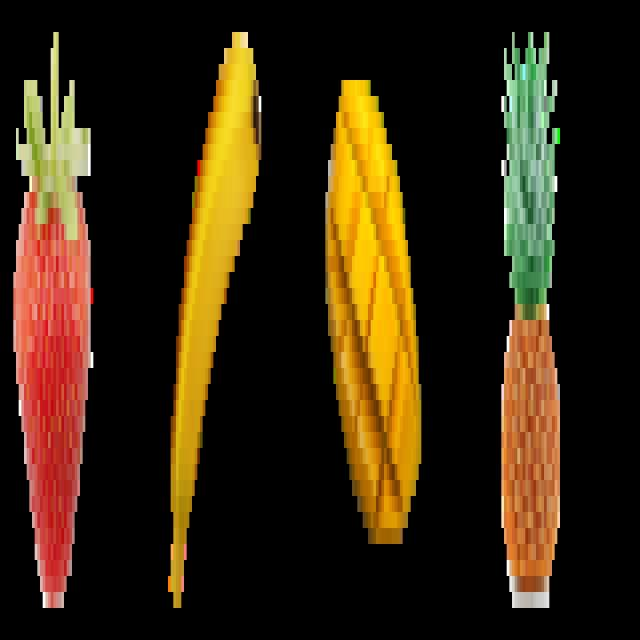bananas: (165, 16, 266, 628)
mango: (319, 32, 432, 610)
pineapples: (493, 13, 574, 620)
strawberry: (8, 26, 104, 625)
